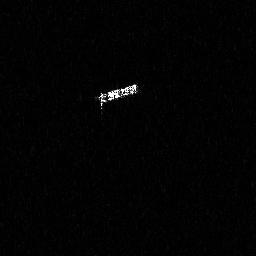ship: (93, 81, 141, 115)
